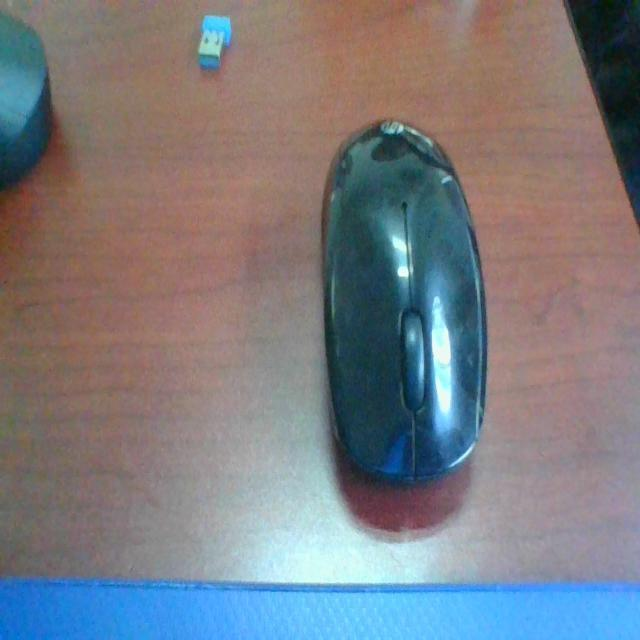mouse: (316, 121, 516, 492)
